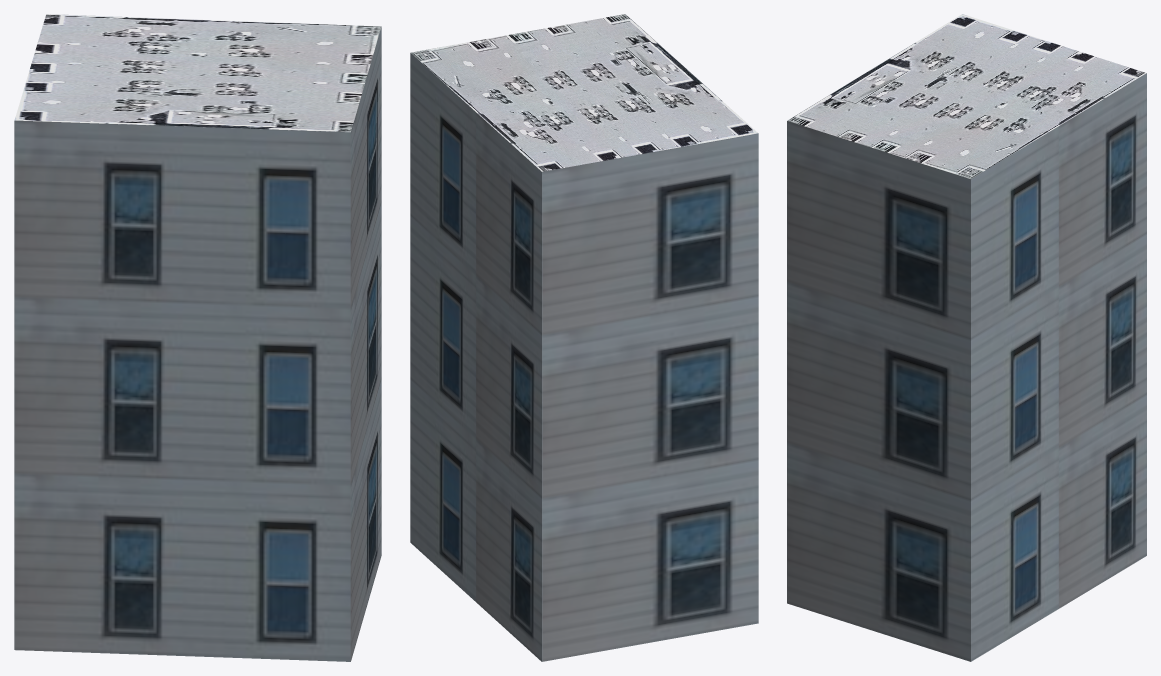
Rendered from ResTex__3787.fbx.
The picture shows the model from 3 angles, left to right: view 1: azimuth 30°, elevation 25°; view 2: azimuth 150°, elevation 25°; view 3: azimuth 270°, elevation 25°; orthographic projection. The views are drawn at different scales.
Visible parts, largest first — view 1: CityEngineMaterial_18_m, CityEngineMaterial_2_m; view 2: CityEngineMaterial_18_m, CityEngineMaterial_2_m; view 3: CityEngineMaterial_18_m, CityEngineMaterial_2_m.
Boxes of the visible parts, left/top/right/bottom form: CityEngineMaterial_18_m: left=14, top=26, right=381, bottom=661; CityEngineMaterial_2_m: left=14, top=14, right=381, bottom=132; CityEngineMaterial_18_m: left=410, top=53, right=758, bottom=661; CityEngineMaterial_2_m: left=411, top=14, right=757, bottom=171; CityEngineMaterial_18_m: left=787, top=73, right=1146, bottom=661; CityEngineMaterial_2_m: left=787, top=14, right=1146, bottom=178.
Size of the model in its own units: 6.61 by 9 by 6.08.
Materials: 2 (2 with a texture image).
